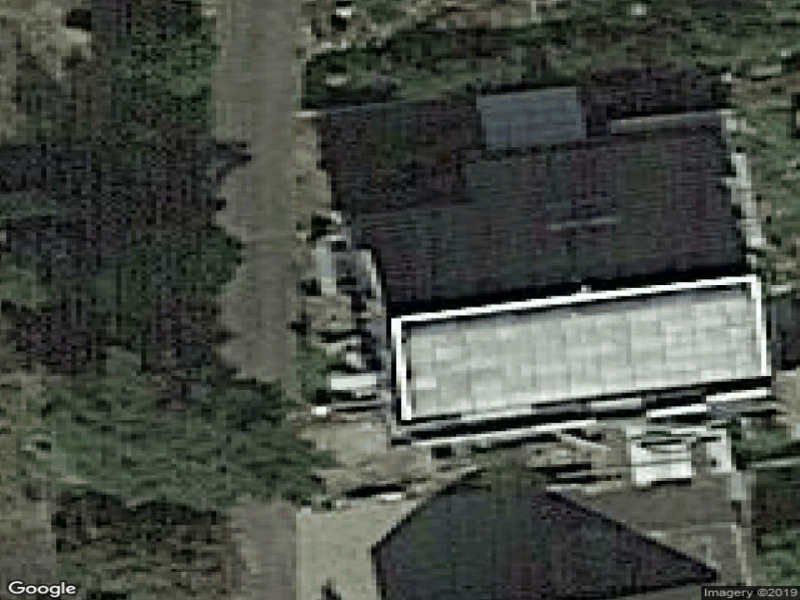pv: (404, 284, 769, 416)
